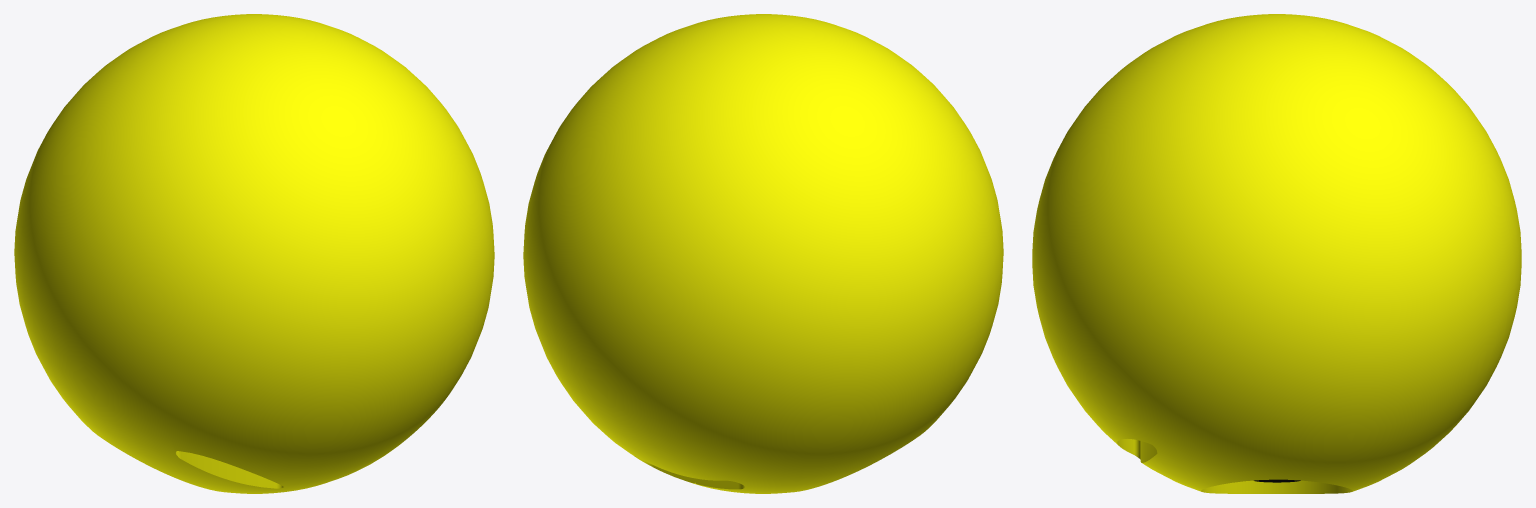
The model's file is surprised.fbx.
3 renders of one model, left to right at view 1: azimuth 30°, elevation 25°; view 2: azimuth 150°, elevation 25°; view 3: azimuth 270°, elevation 25°, orthographic.
Parts seen in each view (by area): view 1: Object_8; view 2: Object_8; view 3: Object_8.
Boxes of the visible parts, x1,y1,x2,y2 form: Object_8: [14, 14, 494, 493]; Object_8: [523, 14, 1003, 493]; Object_8: [1032, 14, 1521, 493].
Size of the model in its own units: 39.38 by 39.43 by 39.38.
